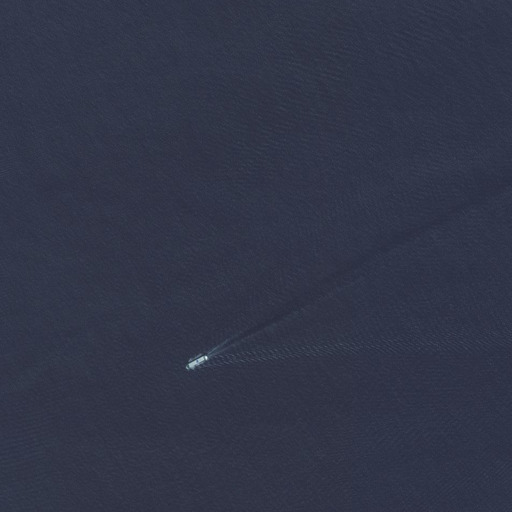ship: (184, 352, 212, 373)
